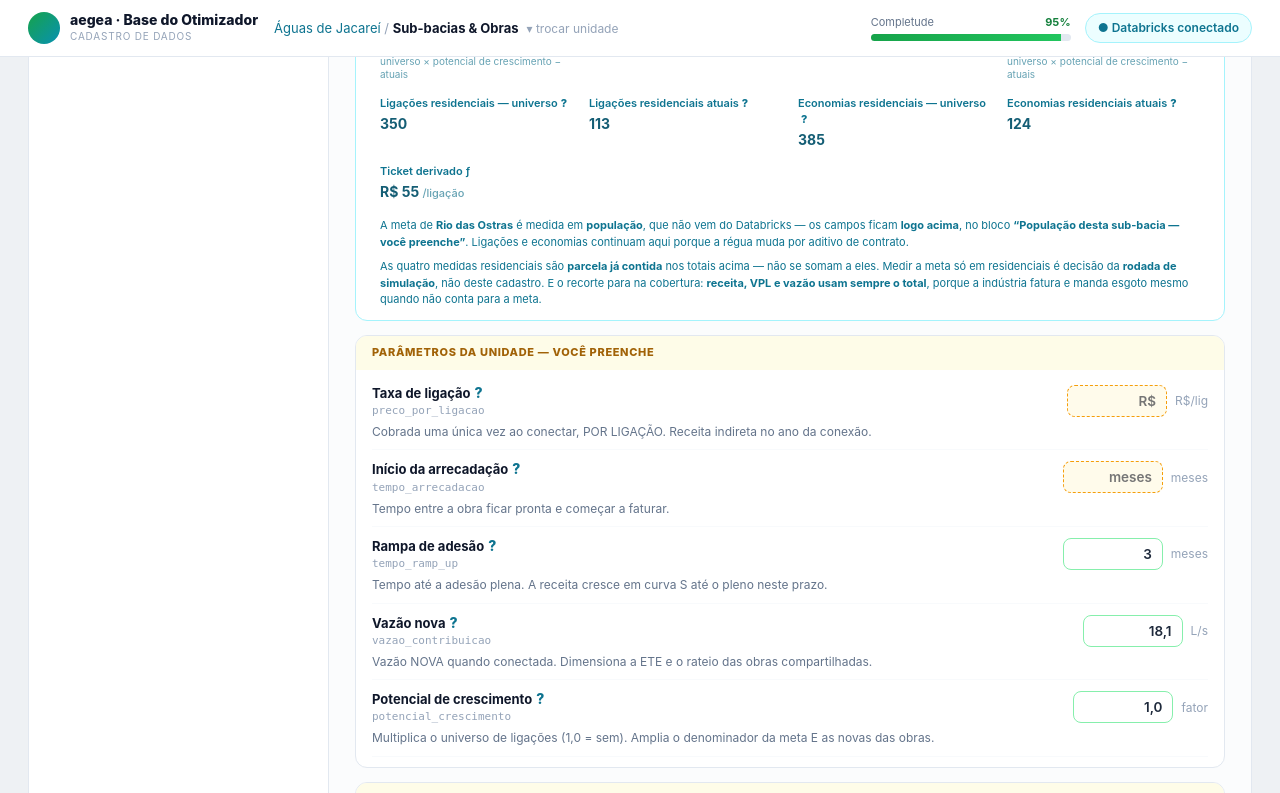
Test: guarda de saída › trocar de grupo dentro da mesma unidade não pergunta nada
This screenshot has width=1280, height=793.
(page scrolled)
Type "5" into the field labelled "Taxa de ligação" at (1117,401), box [1067, 385, 1167, 417]
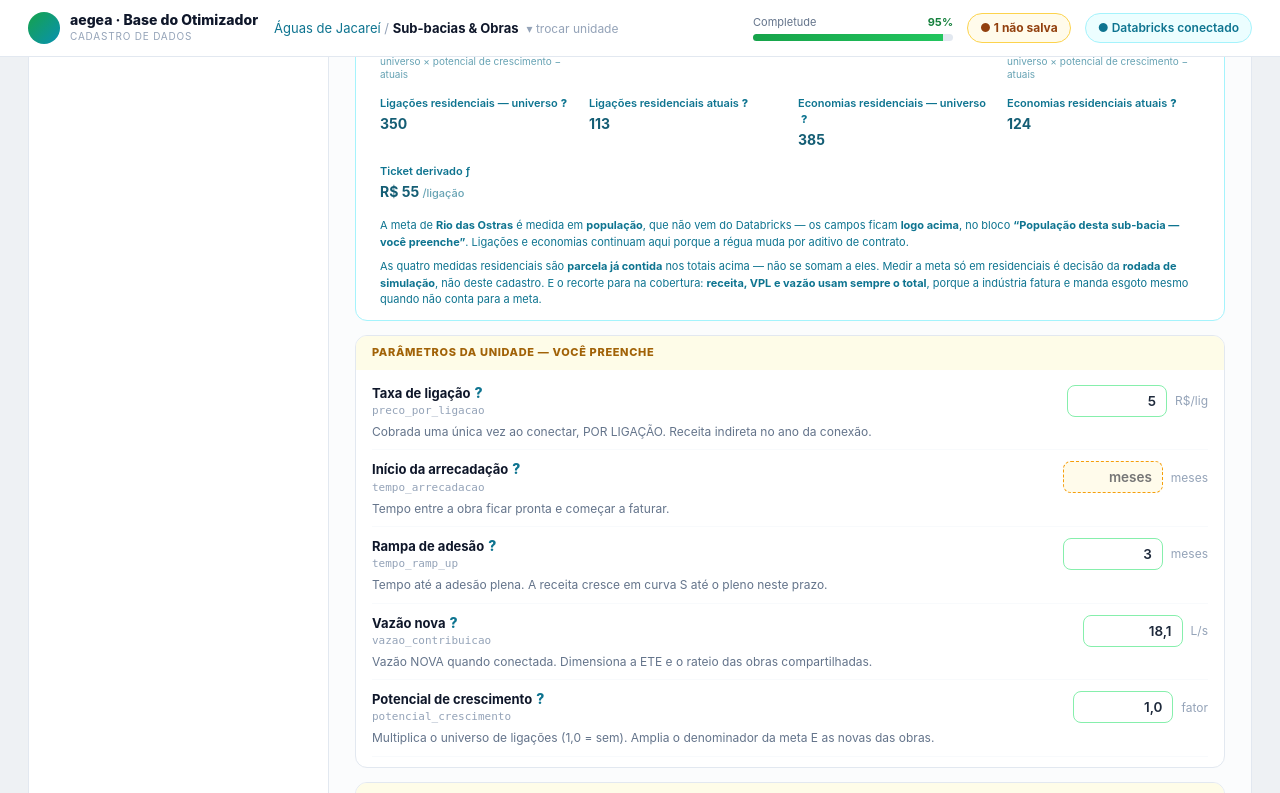
// Voltar ao hub da unidade: mesmo estado, nada a perder.
Click the button "Águas de Jacareí" at (327,28), box [274, 19, 381, 37]
(page scrolled)
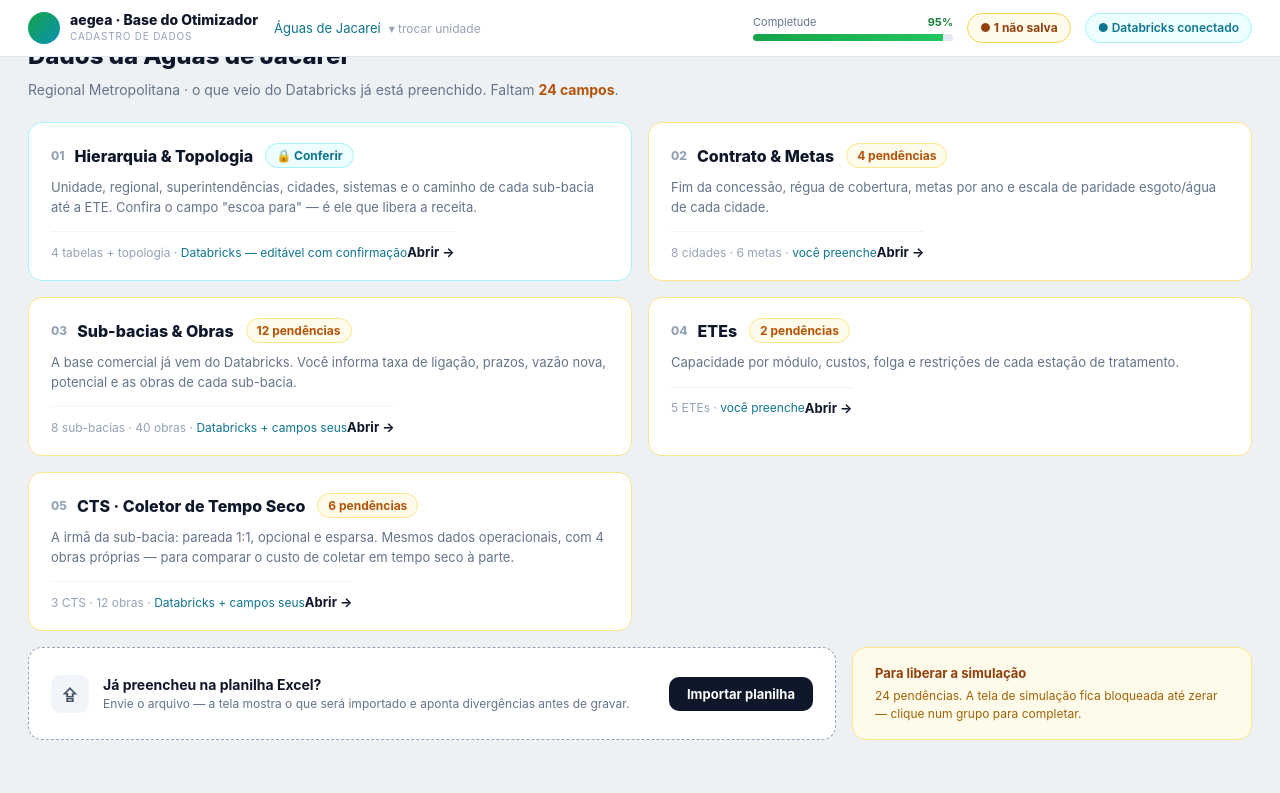
Check: the text "Já preencheu na planilha Excel?" is shown, box [103, 676, 322, 693]
